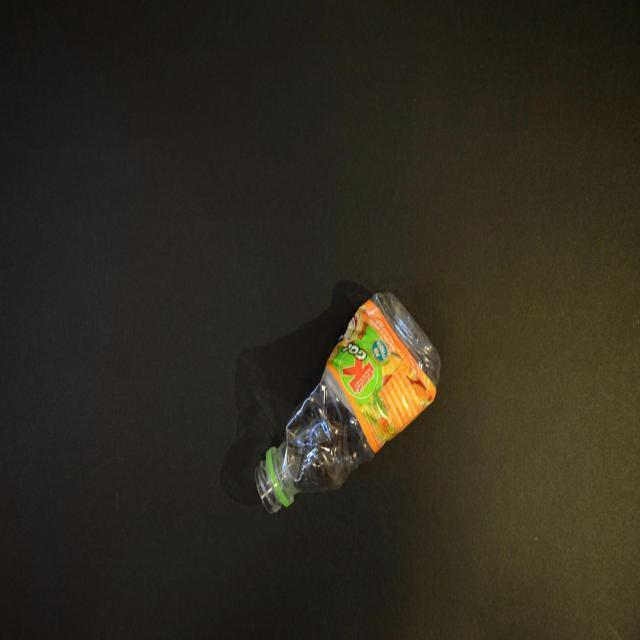bottle: (254, 292, 442, 516)
